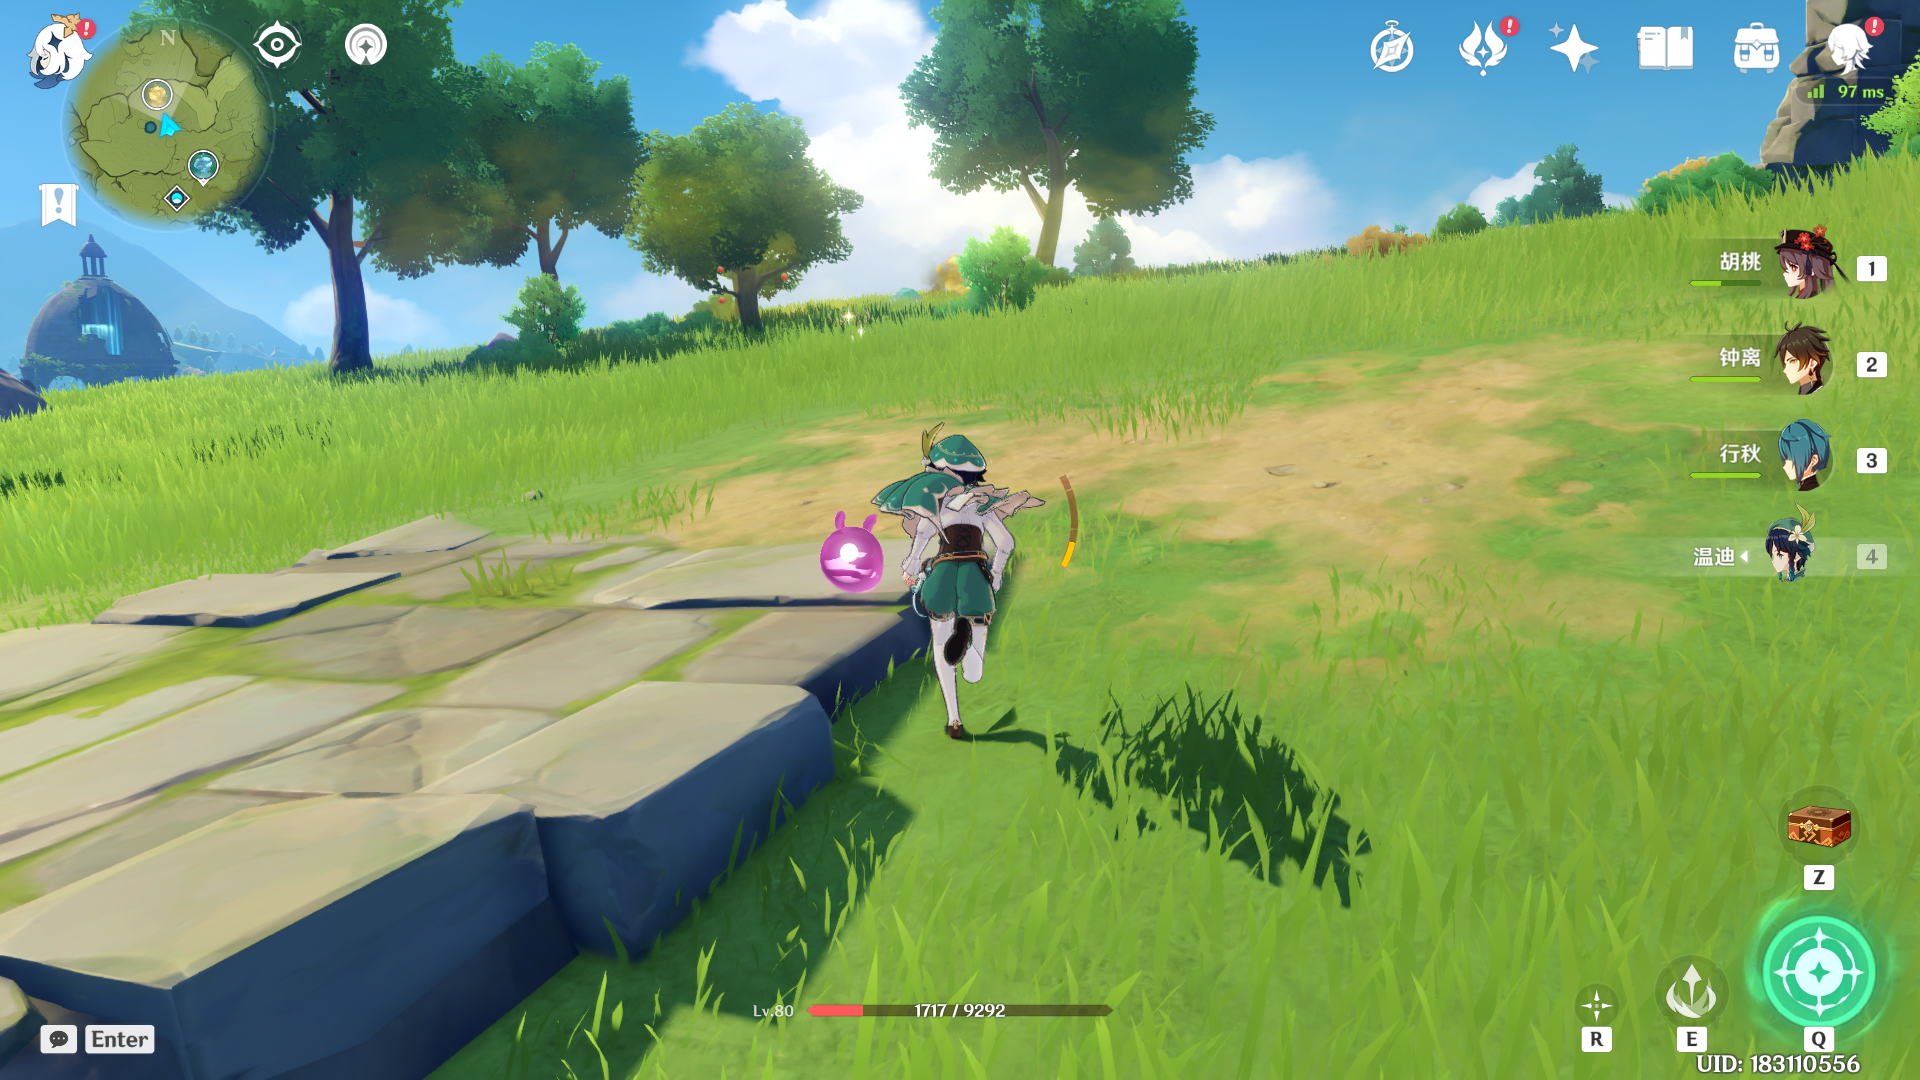character: (819, 400, 1097, 769)
